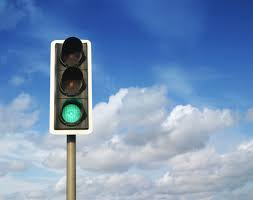green: (46, 34, 97, 138), (57, 42, 91, 131), (60, 45, 86, 124)
